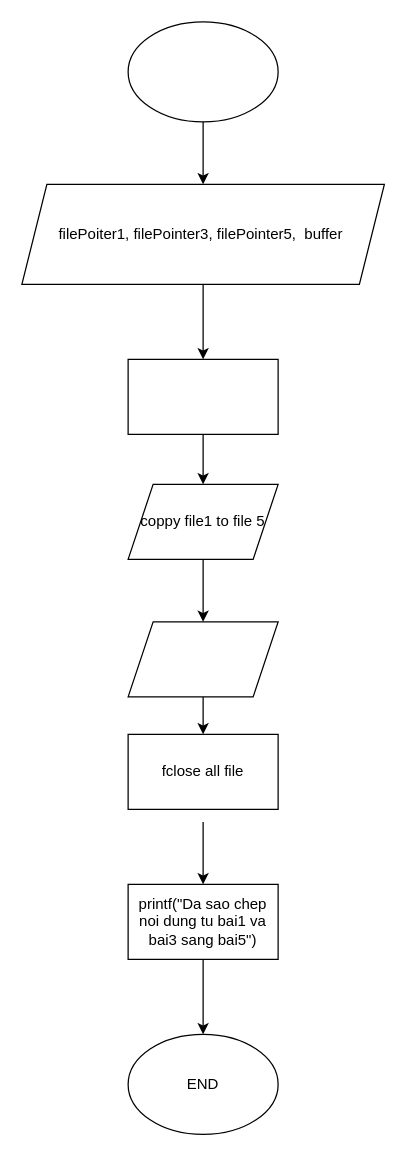
This 406x1156 diagram has some shape labels left out. The shapes that lost their labels are listed below. From the top down, each one's centre as x and y in pixels, then its label:
(x=202, y=71): START
(x=202, y=396): fopen file1, file3, file5
(x=202, y=659): coppy file 3 to 5
